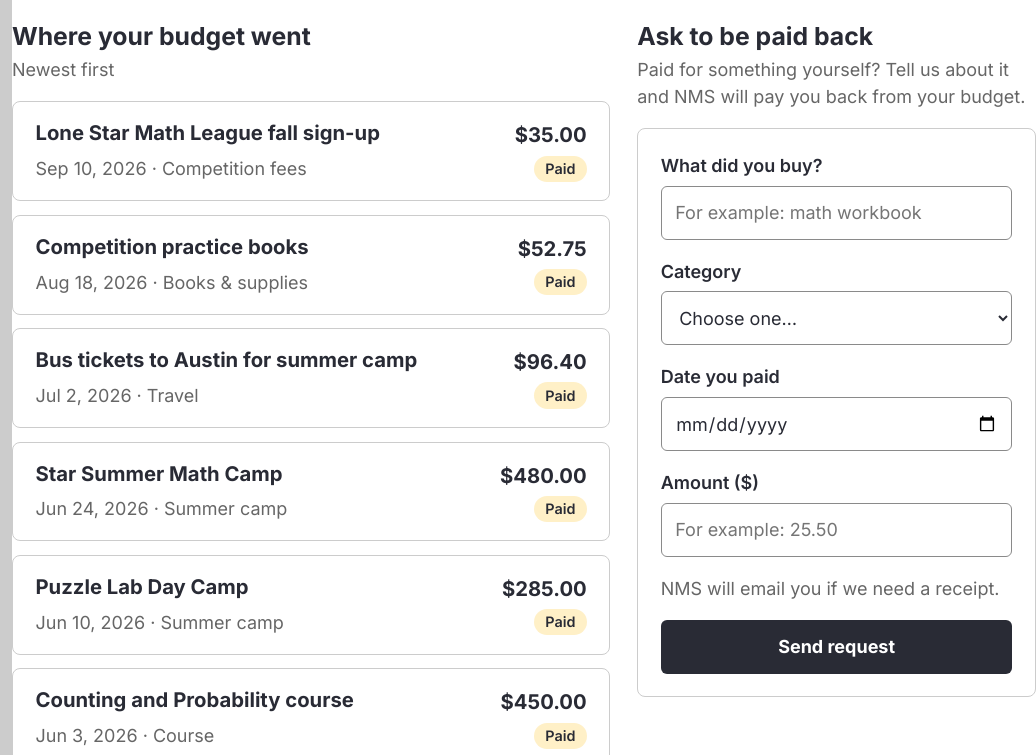
it: BudgetTab › moves focus to the first missing field when the form is empty
The width and height of the screenshot is (1036, 755).
(page scrolled)
Click the button "Send request" at [837, 647], box [661,620,1012,674]
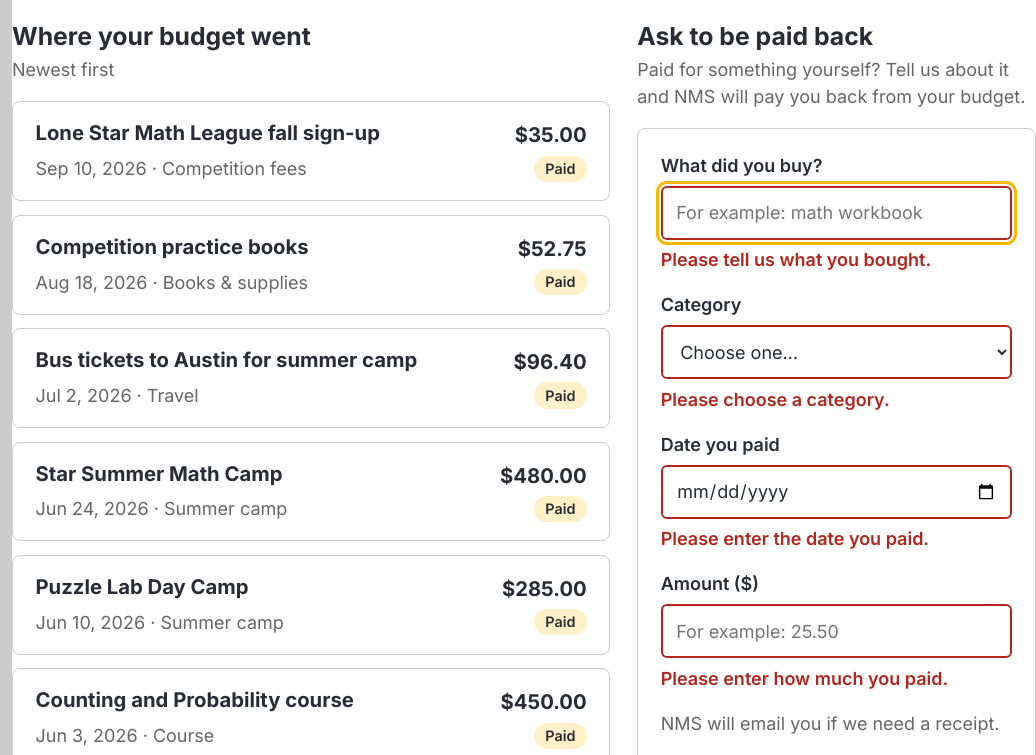
expect the text "Please enter how much you paid." is shown: met, box [661,668,948,689]
